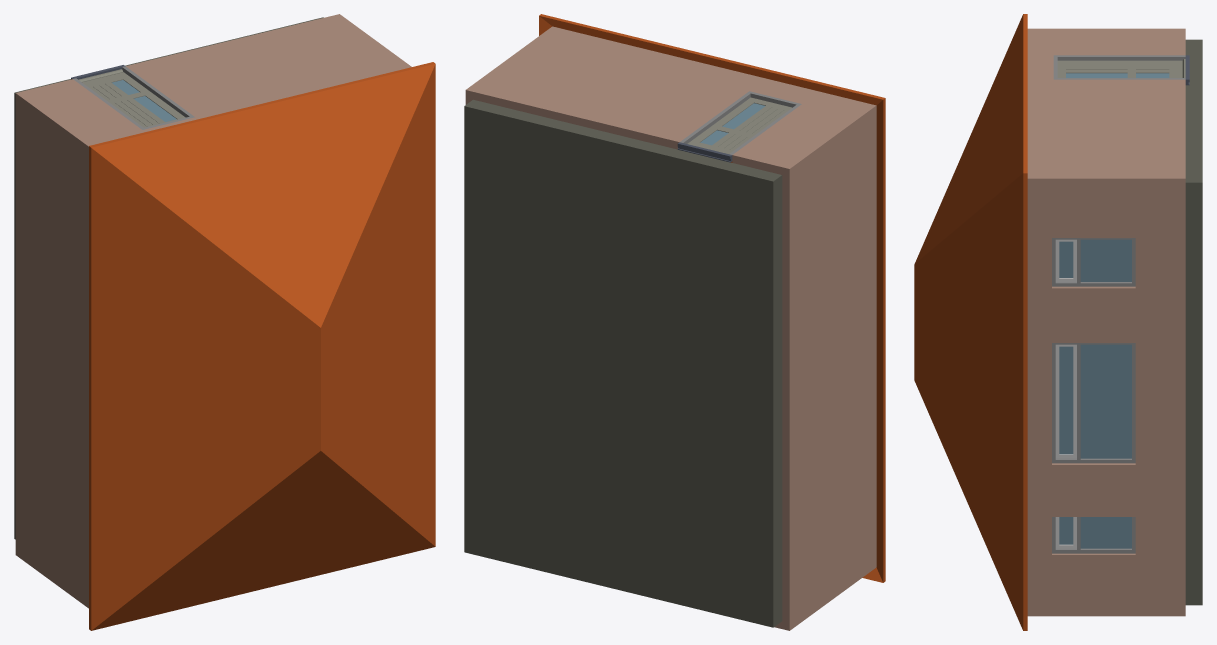
Rendered from simpel_huisje.obj.
3 views of the same model, side by side, from view 1: azimuth 30°, elevation 25°; view 2: azimuth 150°, elevation 25°; view 3: azimuth 270°, elevation 25° (orthographic). The views are drawn at different scales.
Visible parts, largest first — view 1: 1ThpesGdT6PAzgBxTU2rM5, 3K62_B1uj14eWkUTHDHycN, 0t8X0bxbrFWOdYI44_3xiw, 1VskaLt998rPV5jvdBb9YN, 39E$wrIc52khNfT9sxy4Ml; view 2: 39E$wrIc52khNfT9sxy4Ml, 3K62_B1uj14eWkUTHDHycN, 0t8X0bxbrFWOdYI44_3xiw, 1ThpesGdT6PAzgBxTU2rM5, 1VskaLt998rPV5jvdBb9YN; view 3: 1ThpesGdT6PAzgBxTU2rM5, 0_h3zVgy18O8jLEe$sa3dW, 0t8X0bxbrFWOdYI44_3xiw, 3MbZz6WlH1w97t7yUO3_Qu, 3eBbEHw514fP76hmvGb1it, 39E$wrIc52khNfT9sxy4Ml, 25OLjIK2fAQR8S21mw5k9g, 1VskaLt998rPV5jvdBb9YN, 0TgMDNK6D96Qi0ve0Hh43b.
Part boxes in pixels (<box>): 1ThpesGdT6PAzgBxTU2rM5: <box>89,62,435,630</box>; 3K62_B1uj14eWkUTHDHycN: <box>15,93,88,608</box>; 0t8X0bxbrFWOdYI44_3xiw: <box>16,14,411,146</box>; 1VskaLt998rPV5jvdBb9YN: <box>71,65,194,129</box>; 39E$wrIc52khNfT9sxy4Ml: <box>14,17,323,539</box>; 39E$wrIc52khNfT9sxy4Ml: <box>464,99,782,627</box>; 3K62_B1uj14eWkUTHDHycN: <box>782,105,876,630</box>; 0t8X0bxbrFWOdYI44_3xiw: <box>466,26,876,174</box>; 1ThpesGdT6PAzgBxTU2rM5: <box>539,14,885,582</box>; 1VskaLt998rPV5jvdBb9YN: <box>677,91,801,162</box>; 1ThpesGdT6PAzgBxTU2rM5: <box>914,14,1027,630</box>; 0_h3zVgy18O8jLEe$sa3dW: <box>1027,178,1185,516</box>; 0t8X0bxbrFWOdYI44_3xiw: <box>1027,28,1185,178</box>; 3MbZz6WlH1w97t7yUO3_Qu: <box>1027,517,1185,616</box>; 3eBbEHw514fP76hmvGb1it: <box>1052,343,1135,463</box>; 39E$wrIc52khNfT9sxy4Ml: <box>1185,39,1202,605</box>; 25OLjIK2fAQR8S21mw5k9g: <box>1052,238,1135,286</box>; 1VskaLt998rPV5jvdBb9YN: <box>1053,55,1189,85</box>; 0TgMDNK6D96Qi0ve0Hh43b: <box>1052,517,1135,553</box>.
Bounding box in the file's own units: 6.76 × 9.06 × 5.17.
